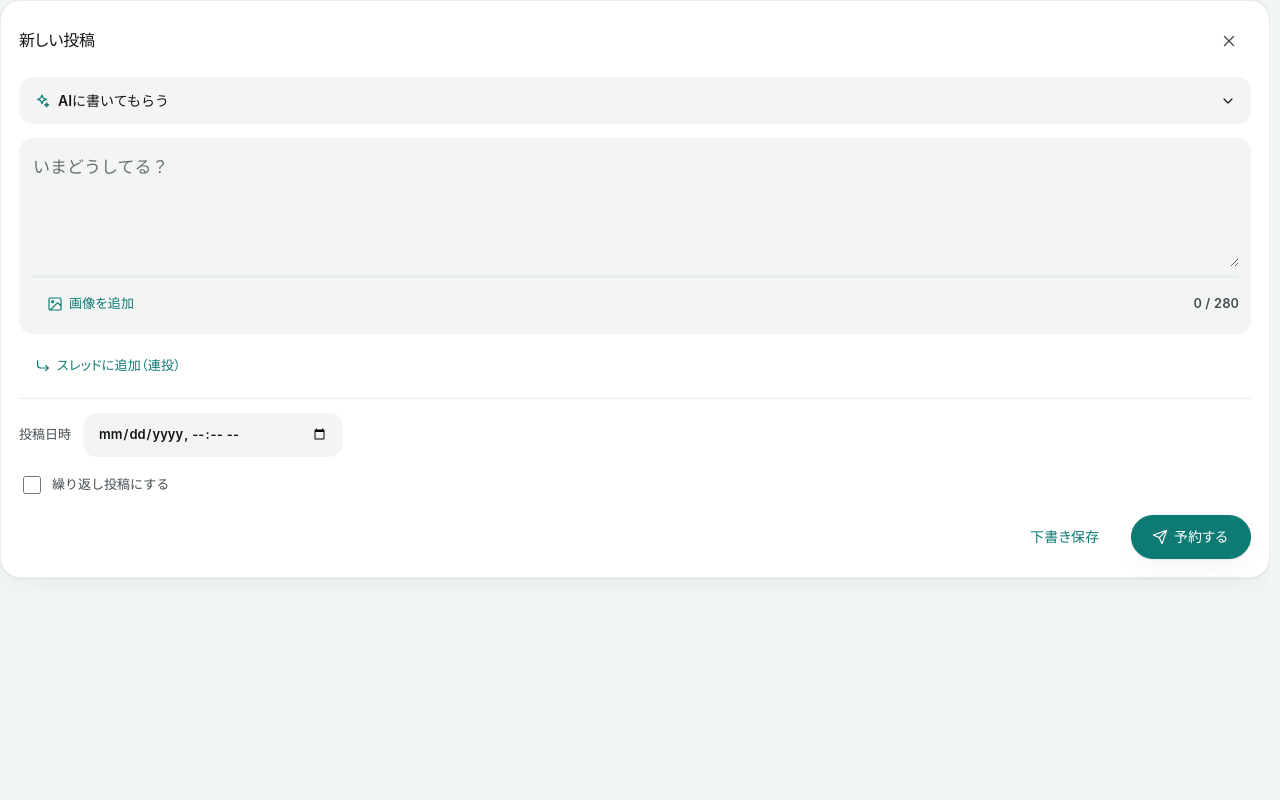
Scenario: PostComposer: 毎日ちがう本文をAIにまかせる › 繰り返しを開くと既定で「毎日」になっている
The image size is (1280, 800).
Click the checkbox labelled "繰り返し投稿にする" at (32, 485), box [23, 476, 41, 494]
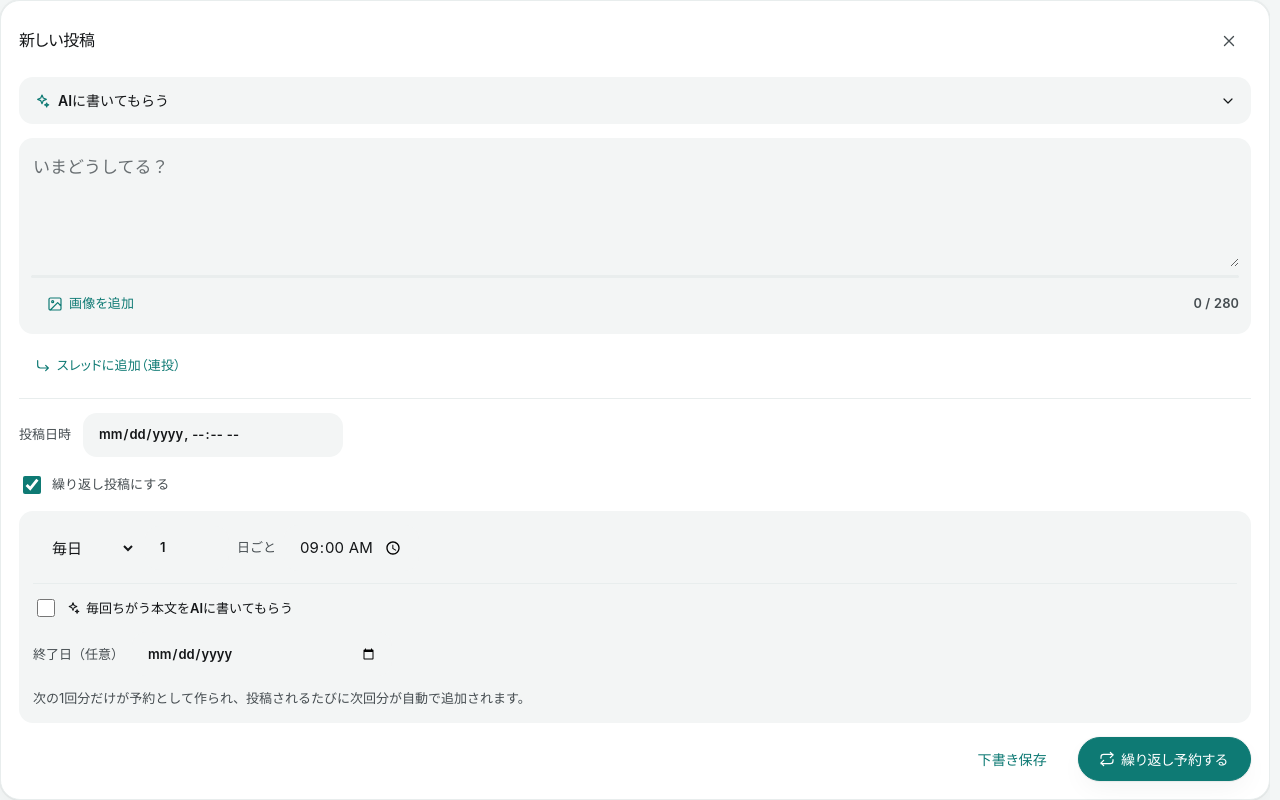
Expected: the dropdown named "繰り返しの頻度" shows "毎日", [33, 526, 137, 570]
